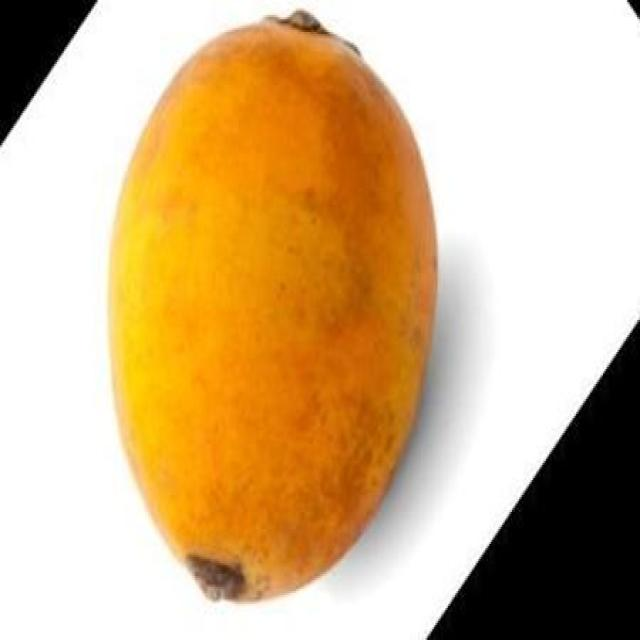good: (104, 13, 438, 606)
